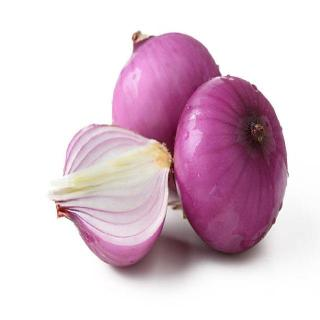Bawang Merah: (173, 73, 290, 256)
